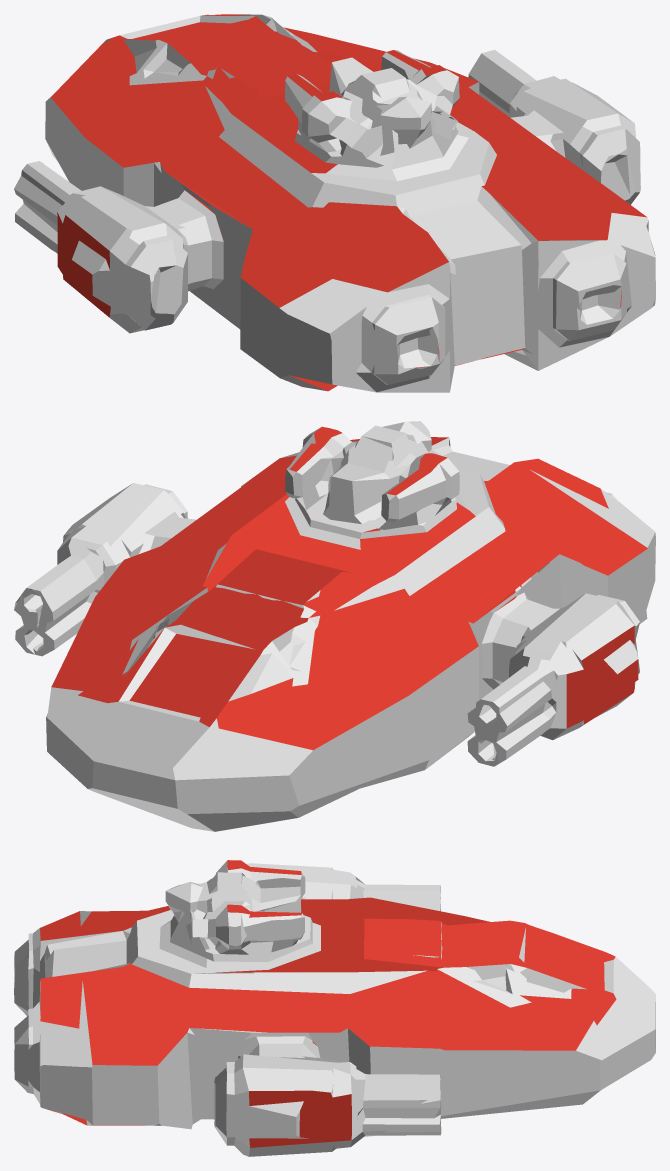
File: interceptor_t1.glb
The picture shows the model from 3 angles, top to bottom: view 1: azimuth 30°, elevation 25°; view 2: azimuth 150°, elevation 25°; view 3: azimuth 270°, elevation 25°; orthographic projection. The views are drawn at different scales.
Parts seen in each view (by area): view 1: Spaceship; view 2: Spaceship; view 3: Spaceship.
Boxes of the visible parts, <box> form: Spaceship: <box>14,14,655,392</box>; Spaceship: <box>14,421,655,831</box>; Spaceship: <box>14,860,655,1156</box>.
Size of the model in its own units: 21.27 by 8.94 by 25.28.
